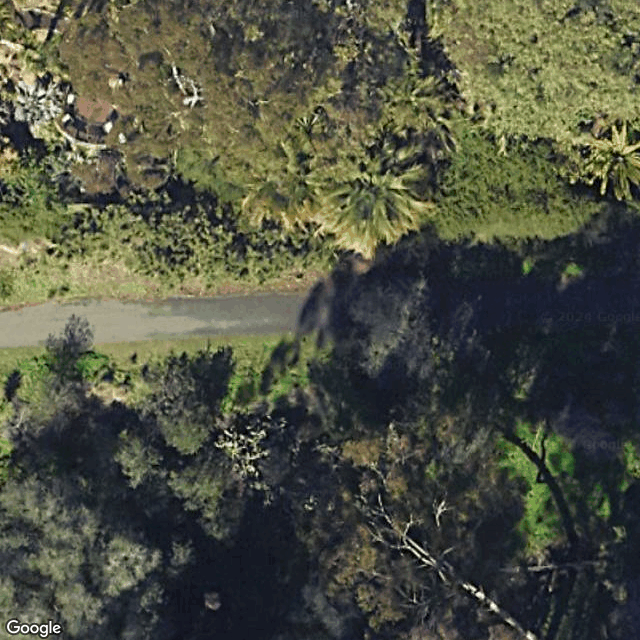palm: (299, 134, 458, 268), (230, 153, 331, 242), (369, 64, 451, 146), (571, 126, 640, 203)
